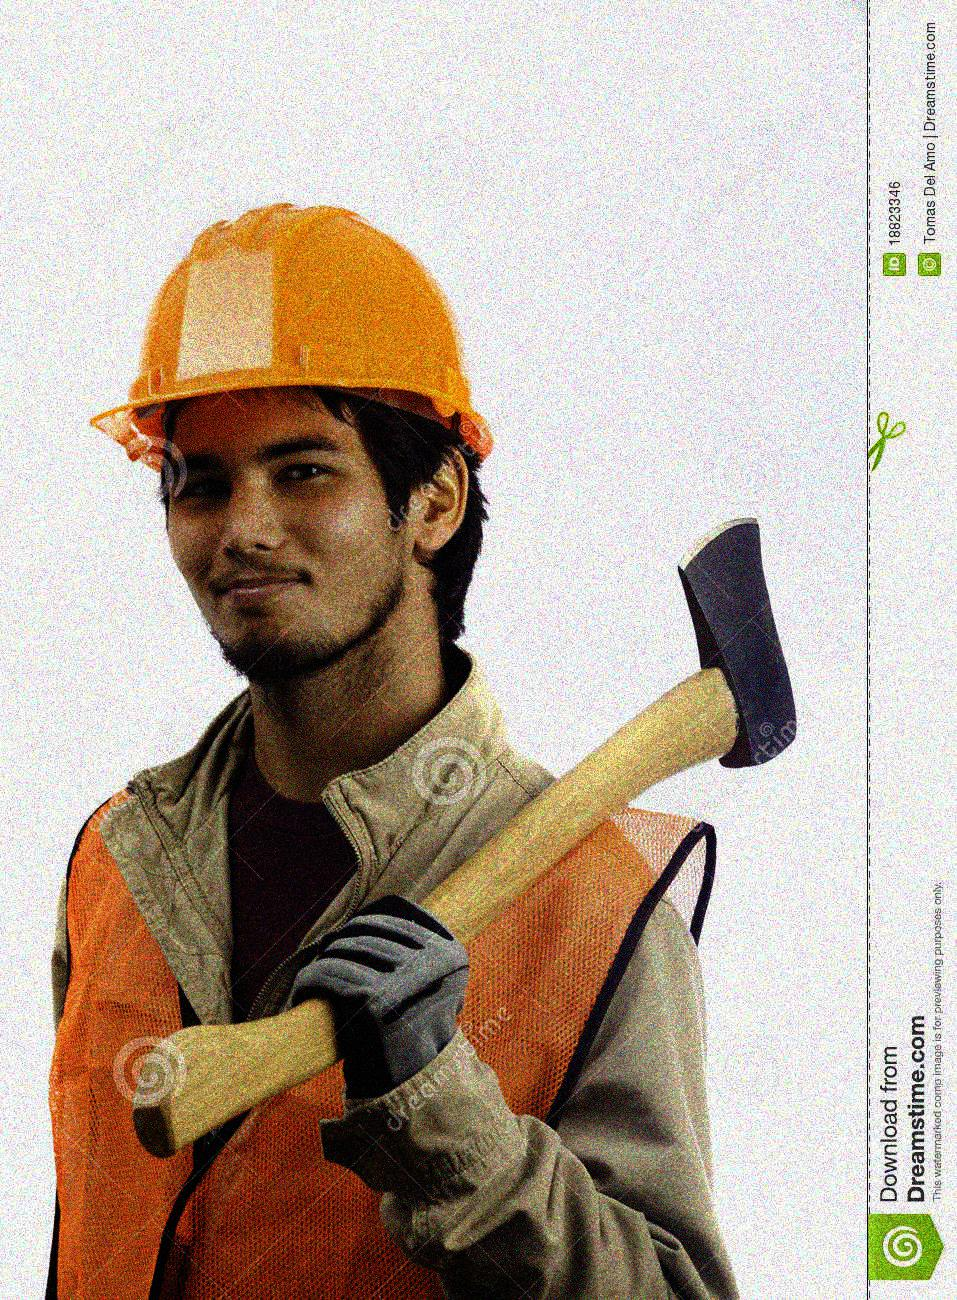helmet: (84, 195, 502, 676)
